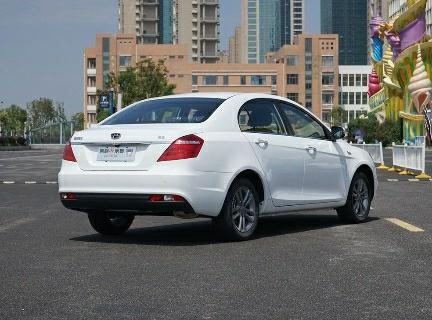car: (51, 90, 390, 244)
